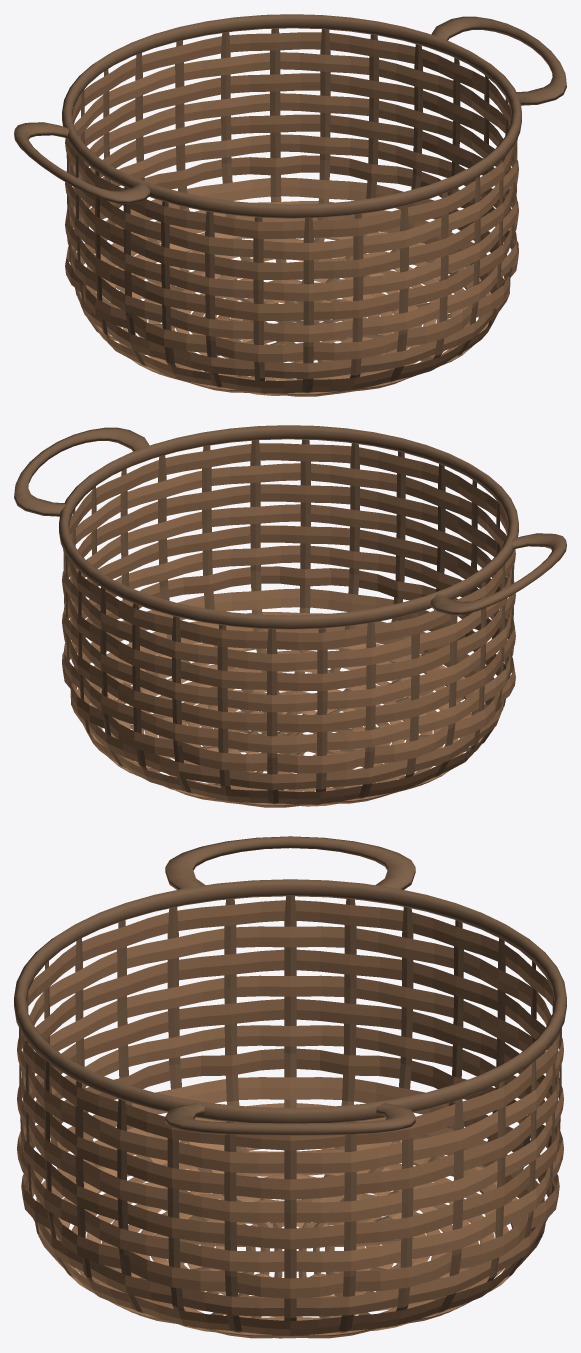
File: Basket 1.fbx
The picture shows the model from 3 angles, top to bottom: view 1: azimuth 30°, elevation 25°; view 2: azimuth 150°, elevation 25°; view 3: azimuth 270°, elevation 25°; orthographic projection. The views are drawn at different scales.
Visible parts, largest first — view 1: Цилиндр.009, Цилиндр.001, Цилиндр, ОкружностьБезье, ОкружностьБезье.001, Цилиндр.011, Цилиндр.010; view 2: Цилиндр.009, Цилиндр.001, Цилиндр, ОкружностьБезье, ОкружностьБезье.001, Цилиндр.011, Цилиндр.010; view 3: Цилиндр.009, Цилиндр.001, Цилиндр, ОкружностьБезье, ОкружностьБезье.001, Цилиндр.011, Цилиндр.010.
Part boxes in pixels (x1=…): Цилиндр.009: x1=65, y1=32, x2=518, y2=393; Цилиндр.001: x1=67, y1=52, x2=517, y2=378; Цилиндр: x1=66, y1=28, x2=517, y2=393; ОкружностьБезье: x1=62, y1=14, x2=521, y2=218; ОкружностьБезье.001: x1=14, y1=16, x2=566, y2=203; Цилиндр.011: x1=95, y1=232, x2=490, y2=396; Цилиндр.010: x1=113, y1=238, x2=475, y2=395; Цилиндр.009: x1=62, y1=443, x2=515, y2=804; Цилиндр.001: x1=63, y1=463, x2=513, y2=789; Цилиндр: x1=63, y1=439, x2=514, y2=805; ОкружностьБезье: x1=59, y1=425, x2=518, y2=629; ОкружностьБезье.001: x1=14, y1=427, x2=566, y2=614; Цилиндр.011: x1=90, y1=643, x2=485, y2=807; Цилиндр.010: x1=105, y1=650, x2=471, y2=806; Цилиндр.009: x1=21, y1=900, x2=559, y2=1335; Цилиндр.001: x1=17, y1=926, x2=563, y2=1316; Цилиндр: x1=19, y1=896, x2=561, y2=1332; ОкружностьБезье: x1=14, y1=879, x2=566, y2=1123; ОкружностьБезье.001: x1=165, y1=836, x2=415, y2=1135; Цилиндр.011: x1=56, y1=1141, x2=524, y2=1338; Цилиндр.010: x1=71, y1=1149, x2=508, y2=1338.
Size of the model in its own units: 254 by 112 by 203.
